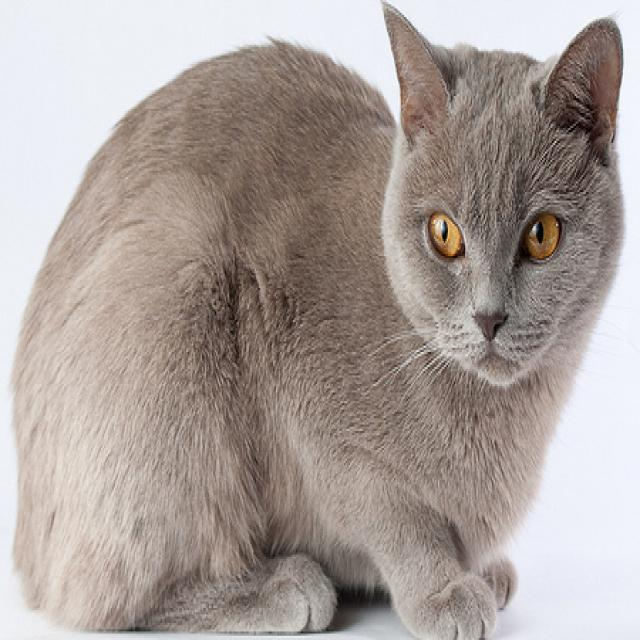British Shorthair: (4, 0, 629, 640)
